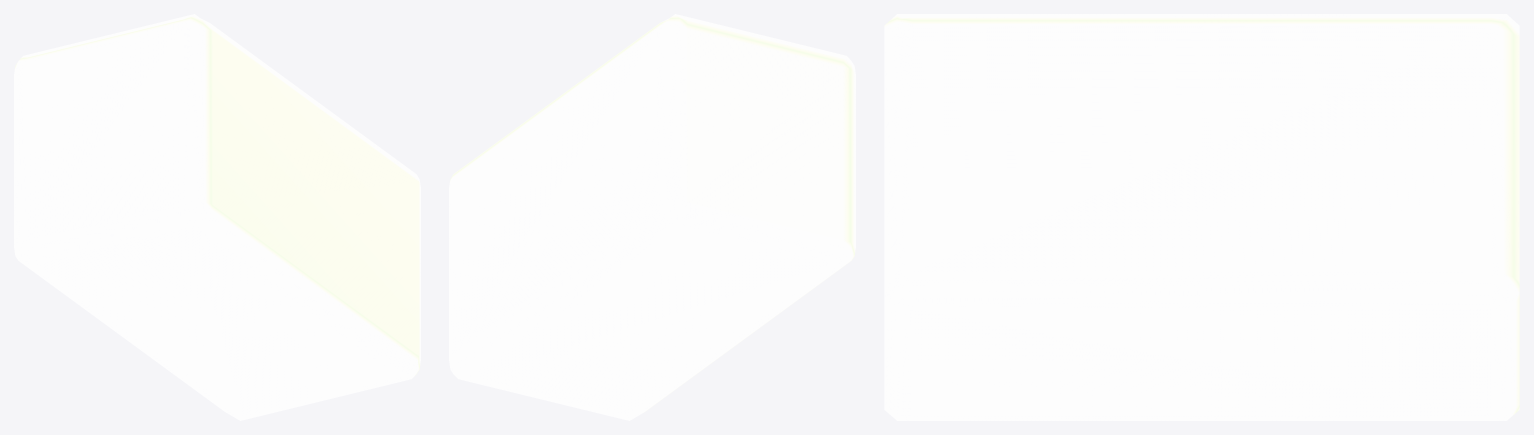
The model's file is cpmarket-edit-green.glb.
3 views of the same model, side by side, from view 1: azimuth 30°, elevation 25°; view 2: azimuth 150°, elevation 25°; view 3: azimuth 270°, elevation 25° (orthographic). The views are drawn at different scales.
Parts seen in each view (by area): view 1: Market-module-type-A_highlight; view 2: Market-module-type-A_highlight; view 3: Market-module-type-A_highlight.
Boxes of the visible parts, x1,y1,x2,y2 form: Market-module-type-A_highlight: (14,14,420,420); Market-module-type-A_highlight: (449,14,855,420); Market-module-type-A_highlight: (884,14,1519,420).
Size of the model in its own units: 4.05 by 4.05 by 8.05.
